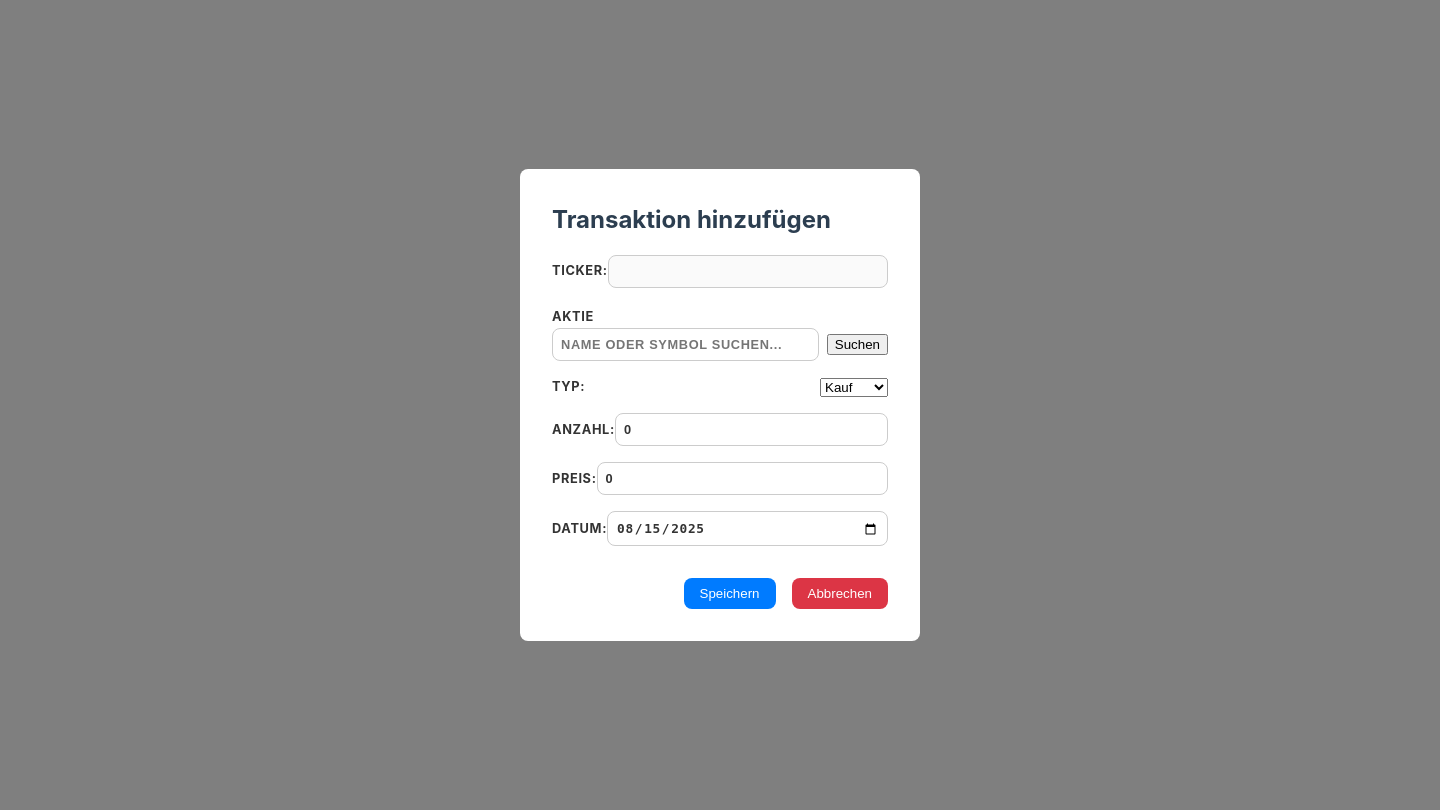
Test case: AddTransactionModal › shows a message if no stocks are found
Type "NonExistent" into the field with id "stock-search". click: (685, 344)
box: [552,328,819,361]
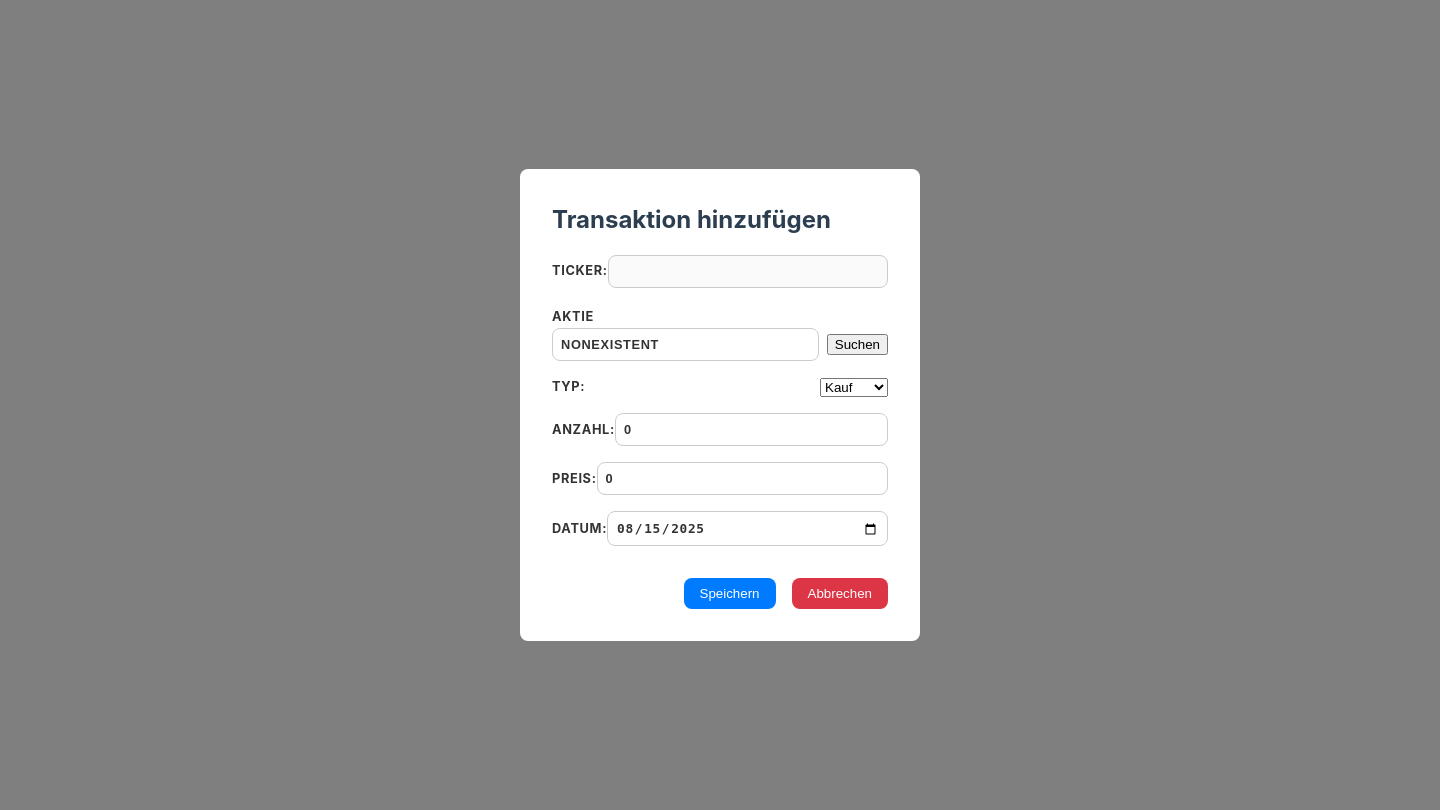
Click the button "Suchen". click: (857, 344)
box: [827,334,888,355]
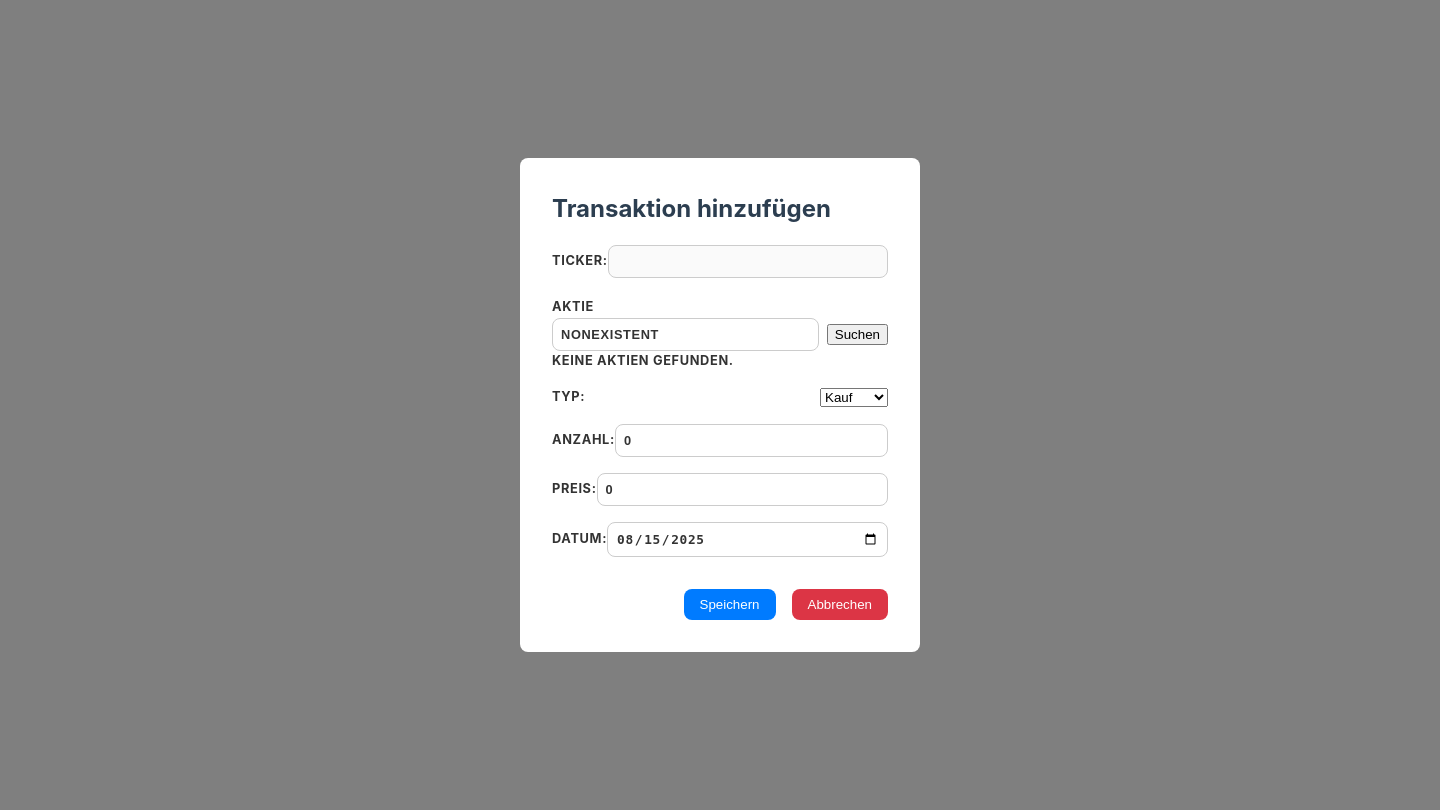
Now the text with class "search-status-message" shows "Keine Aktien gefunden", box [552,353,734,368]
